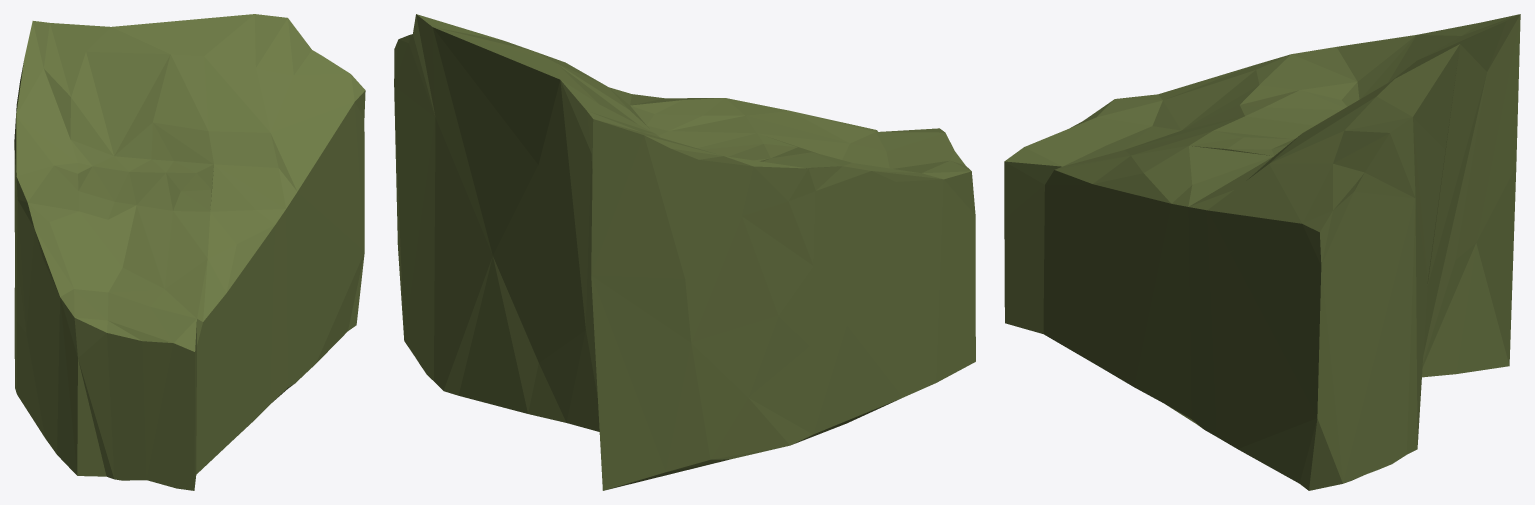
Rendered from ground_22.fbx.
3 views of the same model, side by side, from view 1: azimuth 30°, elevation 25°; view 2: azimuth 150°, elevation 25°; view 3: azimuth 270°, elevation 25° (orthographic). The views are drawn at different scales.
Visible parts, largest first — view 1: ground_22; view 2: ground_22; view 3: ground_22.
Part boxes in pixels (x1=…): ground_22: x1=14, y1=14, x2=365, y2=490; ground_22: x1=394, y1=14, x2=975, y2=490; ground_22: x1=1004, y1=14, x2=1520, y2=490.
Size of the model in its own units: 10.06 by 7.69 by 10.17.
